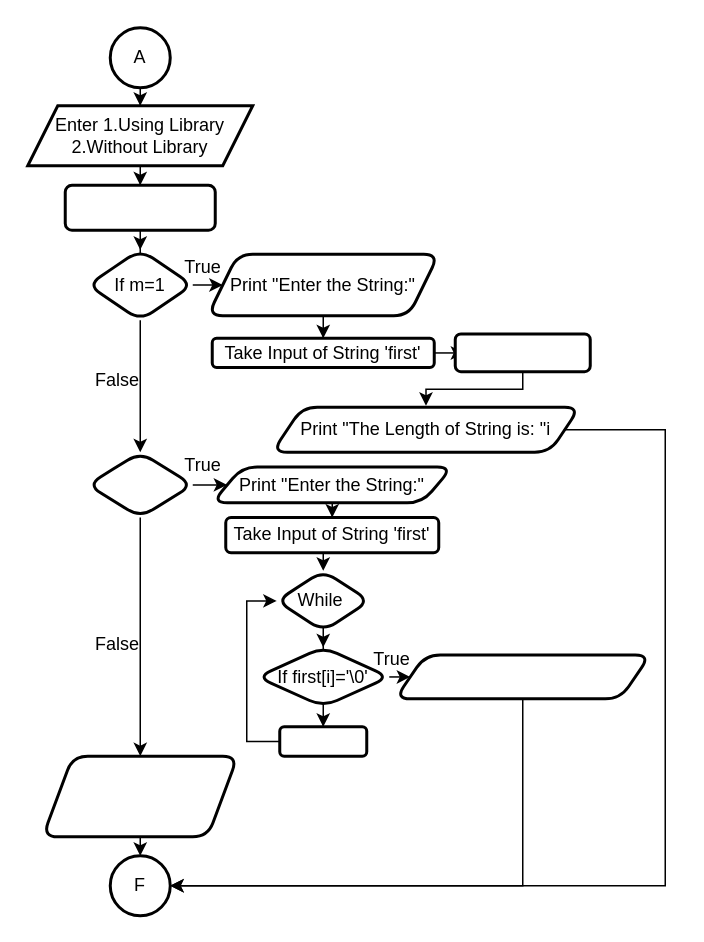
The diagram is 704 pixels wide and 942 high, and some of its shapes have lost their labels. The shapes that lost their labels are listed below. From the top down, each one's centre as x and y in pixels, then its label:
[139,207]: Take Input 'm'
[522,352]: i = strlen (first)
[140,484]: If m=2
[522,676]: Print "Size of String is:" i
[323,740]: i = i+1
[139,796]: Print "Enter a Valid Input"
